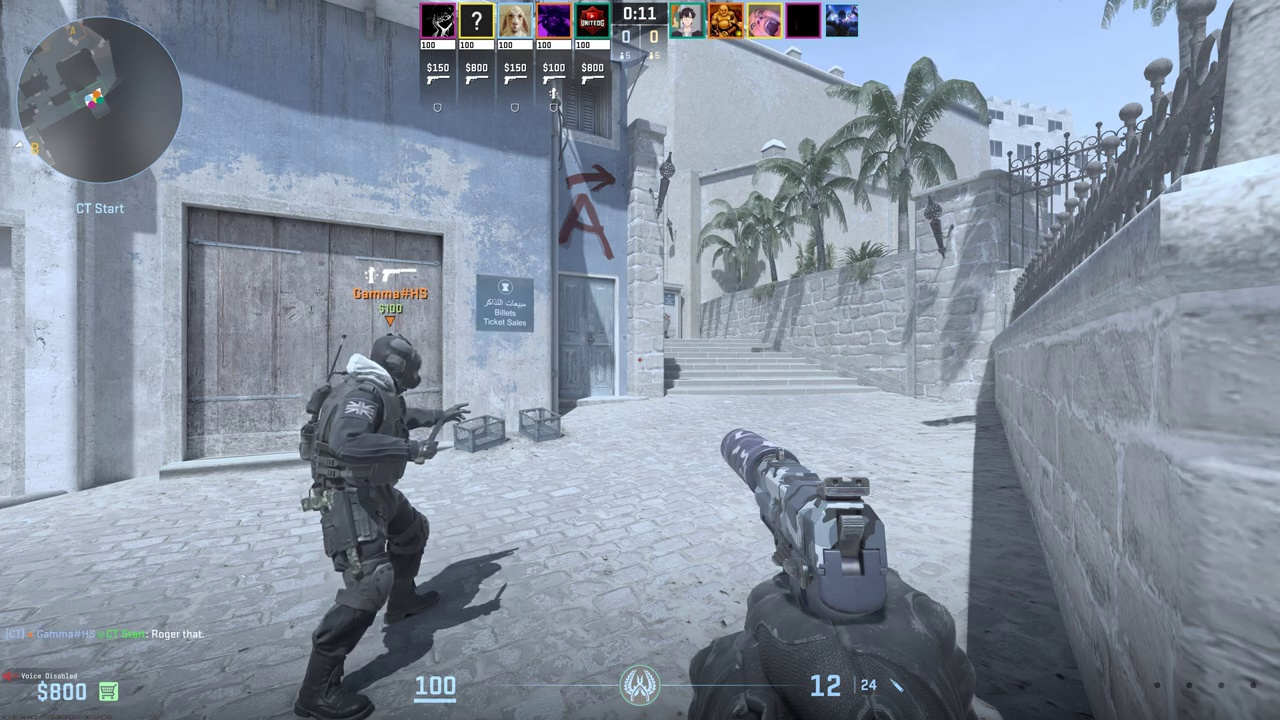CT: (298, 333, 445, 715)
